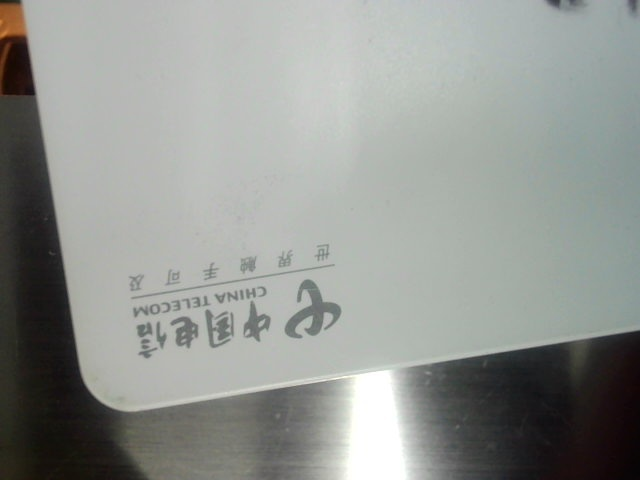AB_ChinaTelecom: (108, 236, 354, 365)
